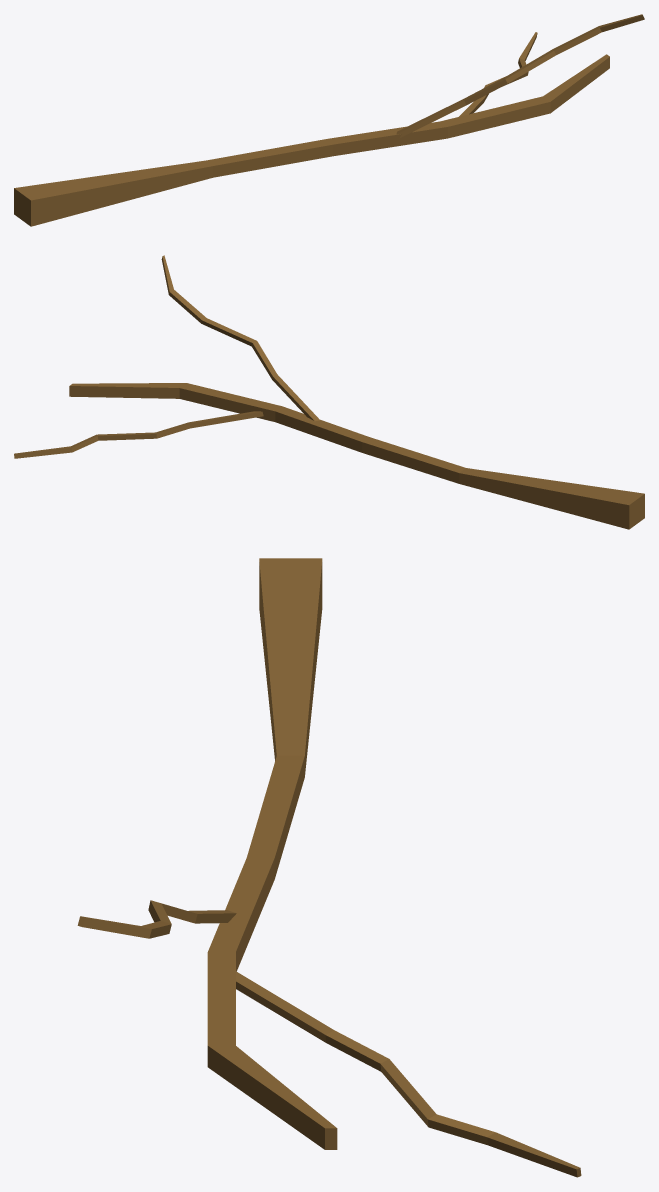
Rendered from Branch.fbx.
The picture shows the model from 3 angles, top to bottom: view 1: azimuth 30°, elevation 25°; view 2: azimuth 150°, elevation 25°; view 3: azimuth 270°, elevation 25°; orthographic projection. The views are drawn at different scales.
Visible parts, largest first — view 1: Branch; view 2: Branch; view 3: Branch.
Boxes of the visible parts, box(x1,y1,x2,y2) form: Branch: box(14, 14, 644, 226); Branch: box(14, 255, 644, 529); Branch: box(77, 558, 581, 1177).
Bounding box in the file's own units: 101 × 20.64 × 39.59.
